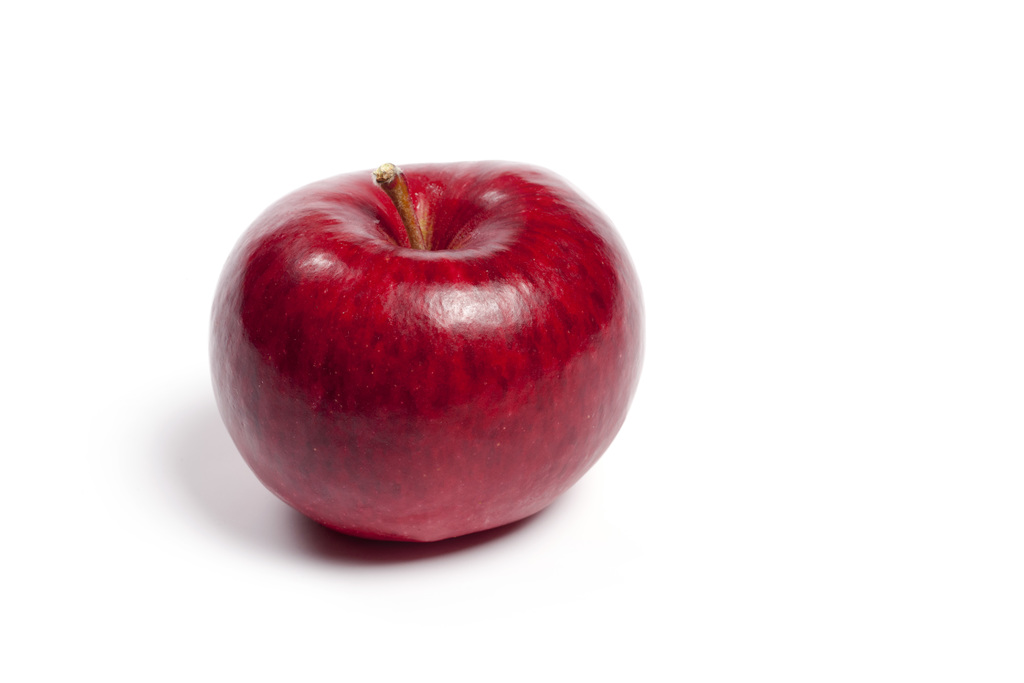Apple: (202, 158, 647, 544)
